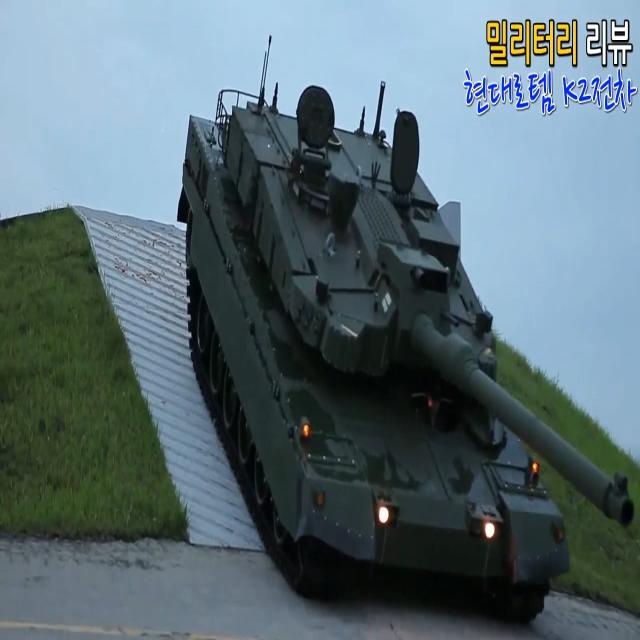korea tank: (175, 29, 635, 630)
